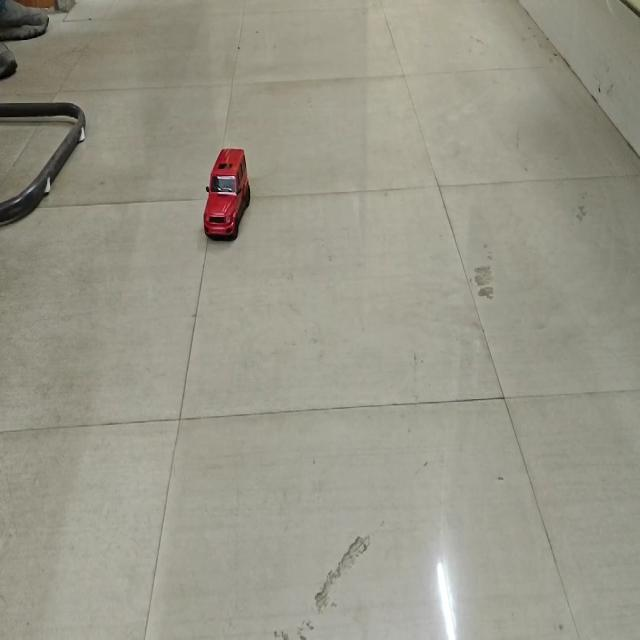light_vehicle: (202, 146, 250, 240)
